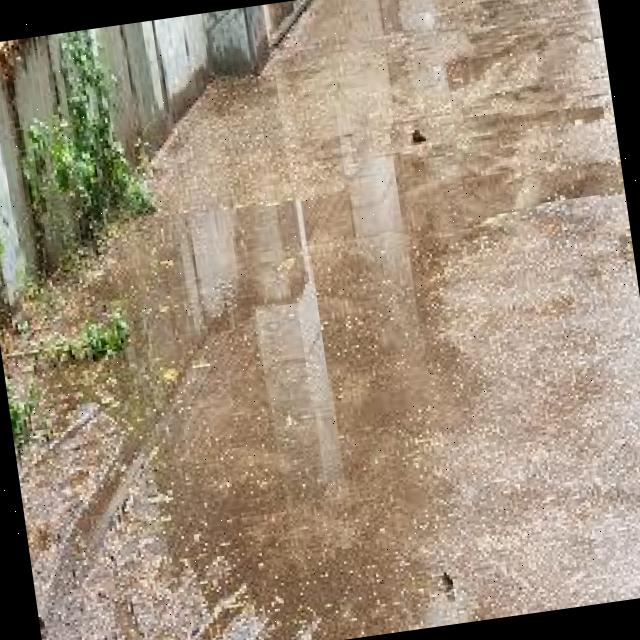stagnation: (109, 158, 474, 640)
